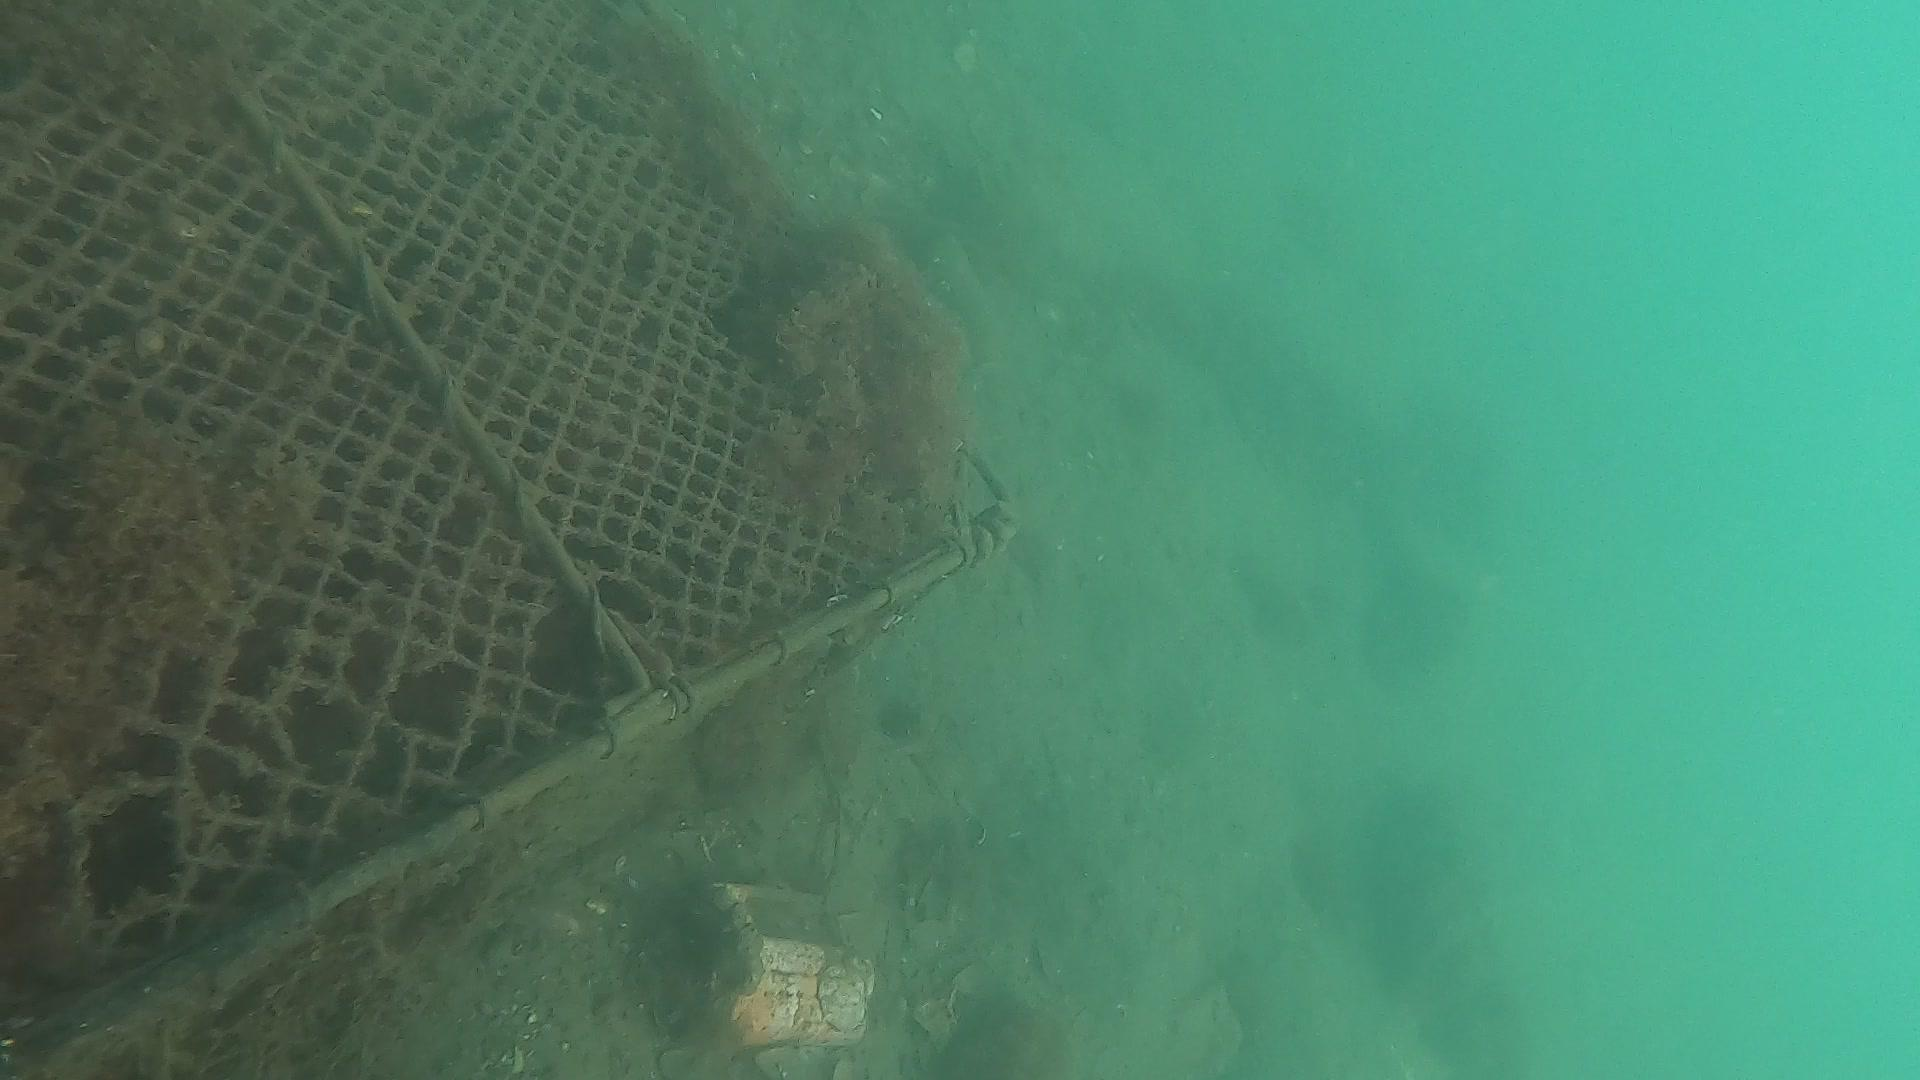rectangular fish trap: (0, 0, 1026, 1080)
